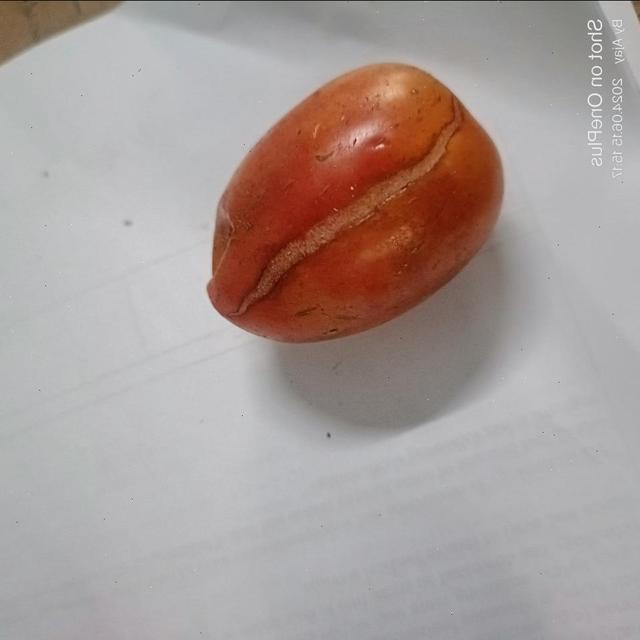Cracking Fruit: (146, 41, 357, 175)
